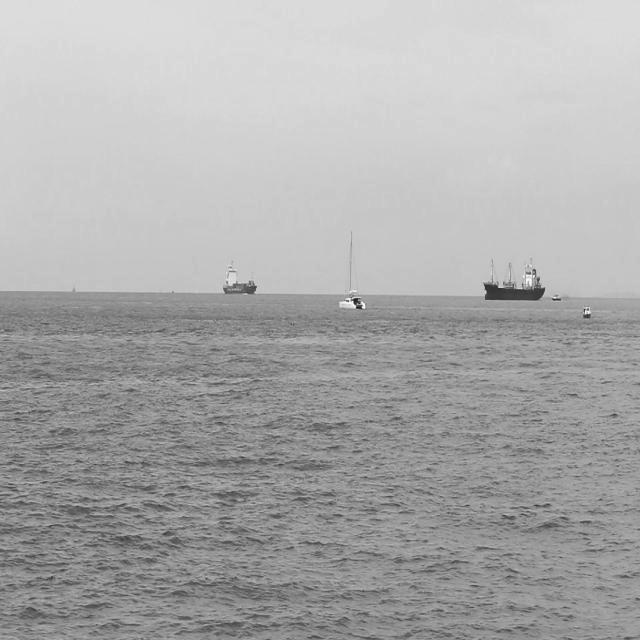ship: (483, 257, 546, 301), (338, 228, 367, 311), (222, 258, 257, 295), (581, 302, 592, 320), (552, 293, 562, 302)
